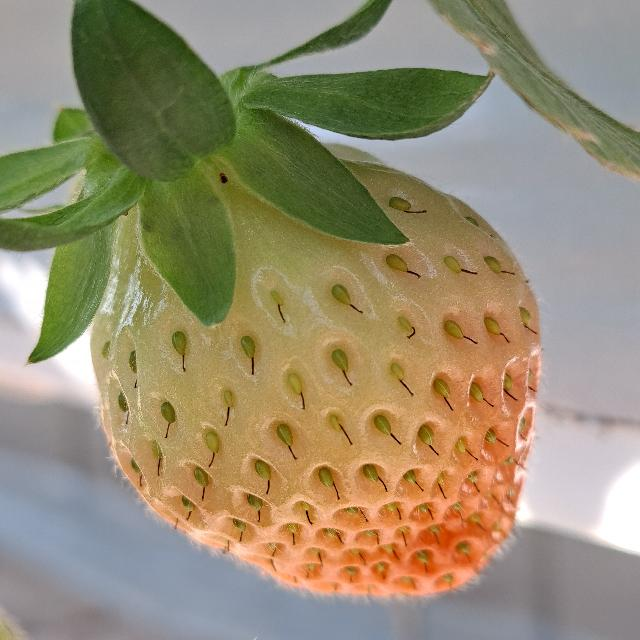Health_50: (90, 142, 542, 596)
